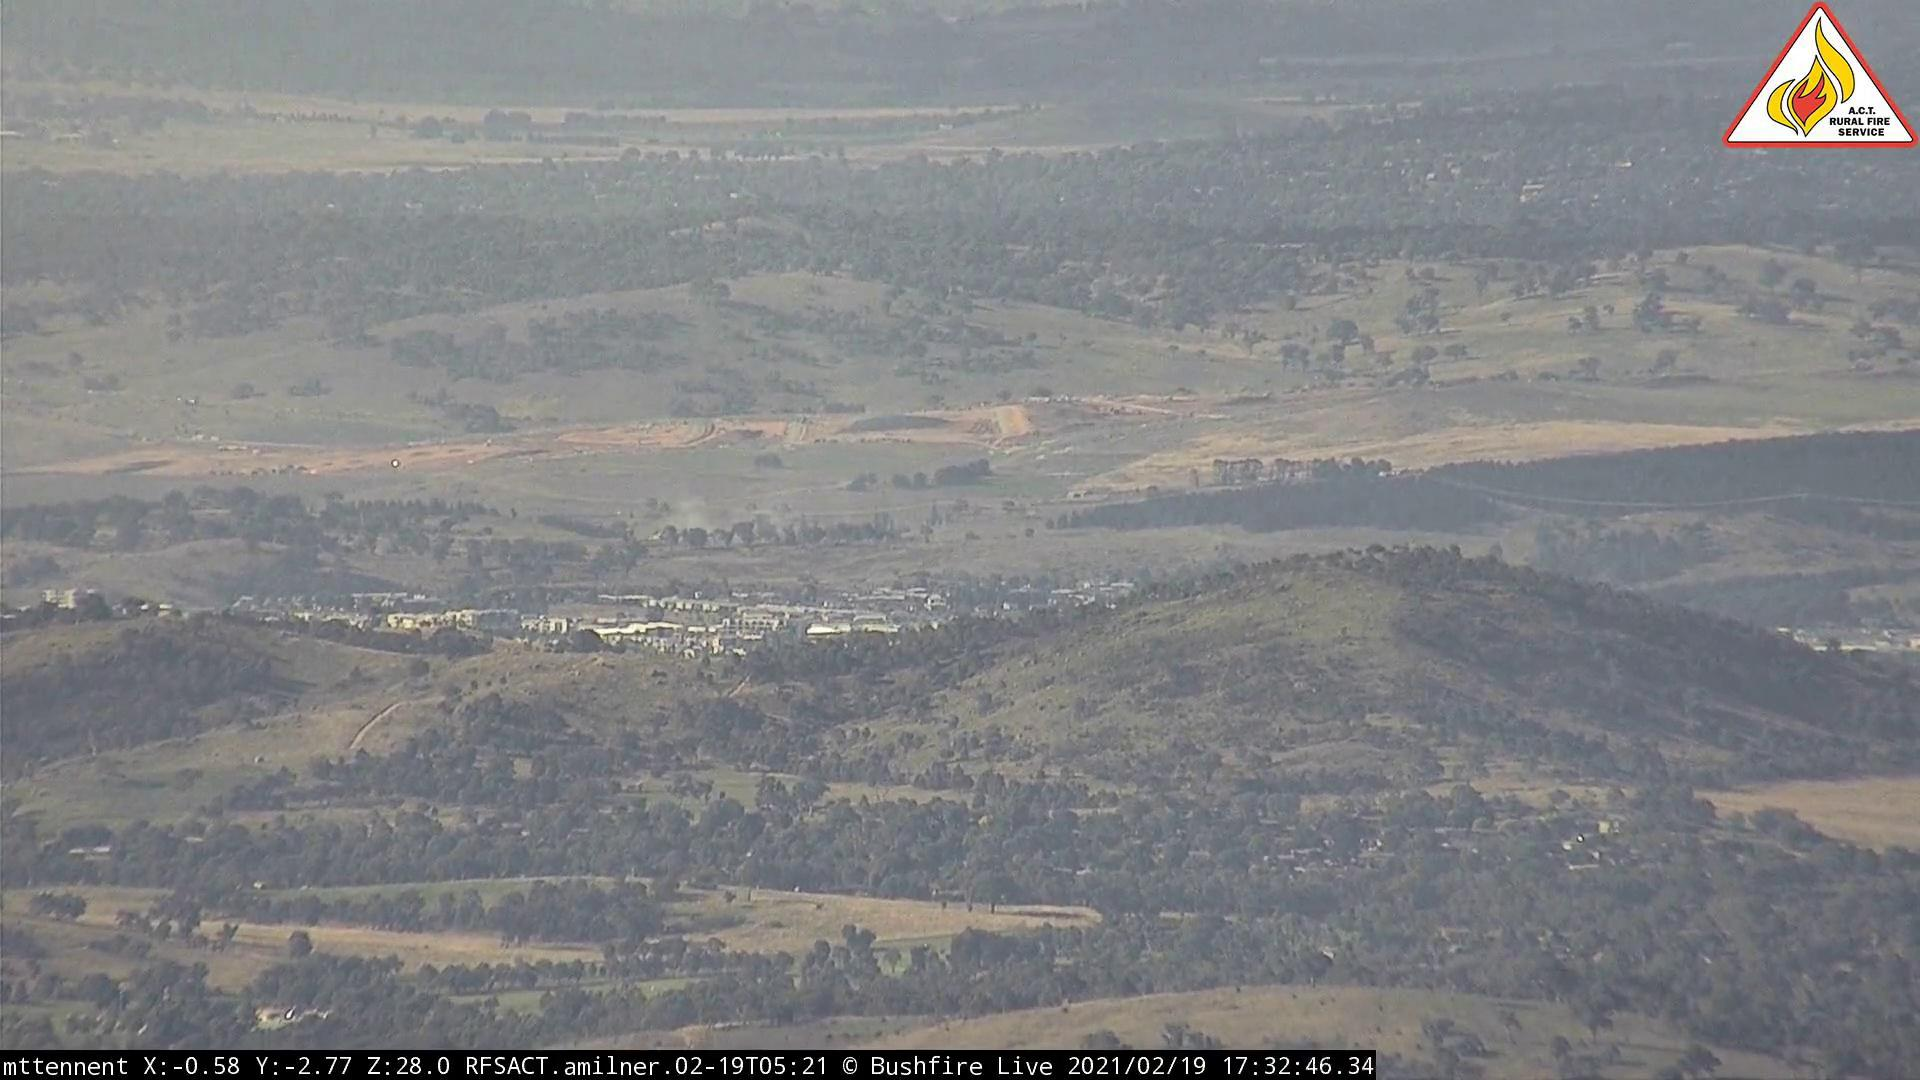instance_salient_object: (645, 492, 727, 549)
